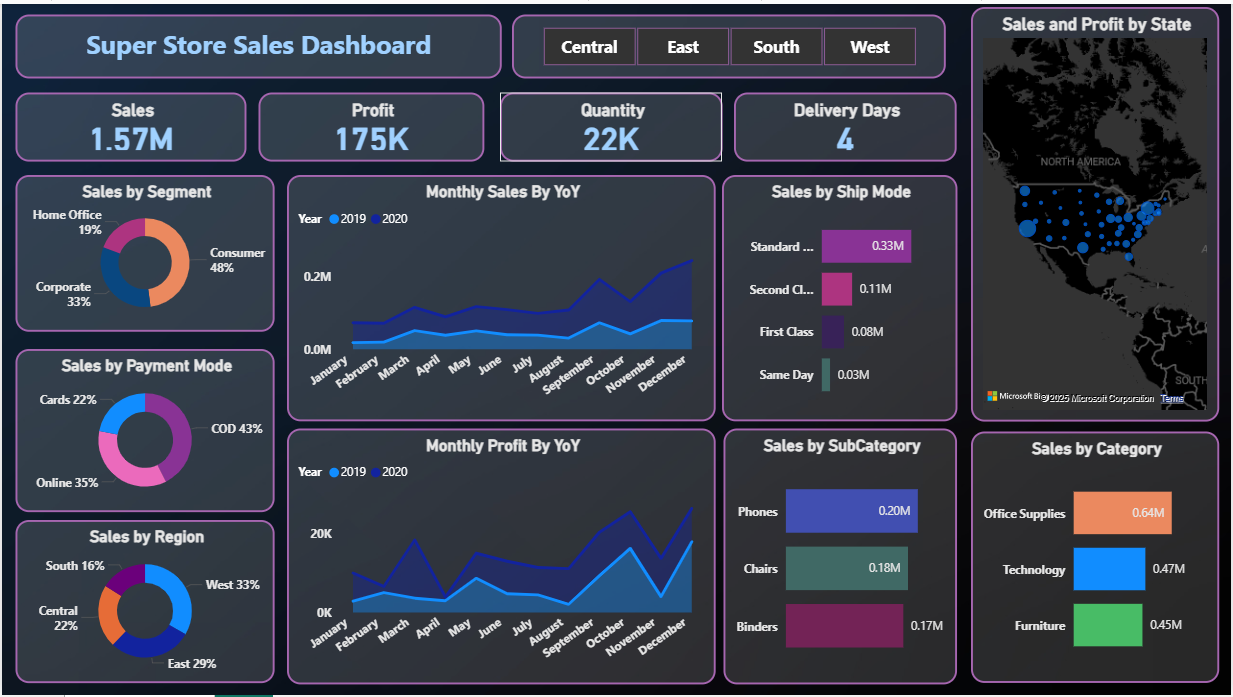

This screenshot's page, from the dashboard's own definition file:
{"tool":"powerbi","page":{"name":"Dashboard","canvas":[1280,720],"ordinal":0},"visuals":[{"type":"clusteredBarChart","title":" Sales by Category","fields":{"Category":["SuperStore_Sales_Dataset.Category"],"Y":["Sum(SuperStore_Sales_Dataset.Sales)"]},"box":[1010,445,258.3,261.7],"z":0},{"type":"clusteredBarChart","title":" Sales by Ship Mode","fields":{"Category":["SuperStore_Sales_Dataset.Ship Mode"],"Y":["Sum(SuperStore_Sales_Dataset.Sales)"]},"box":[750,178.3,245,256.7],"z":1000},{"type":"stackedAreaChart","title":" Monthly Sales By YoY ","fields":{"Category":["SuperStore_Sales_Dataset.Order Date.Variation.Date Hierarchy.Month"],"Y":["Sum(SuperStore_Sales_Dataset.Sales)"],"Series":["SuperStore_Sales_Dataset.Order Date.Variation.Date Hierarchy.Year"]},"box":[296.7,178.3,446.7,256.7],"z":2000},{"type":"stackedAreaChart","title":" Monthly Profit By YoY ","fields":{"Category":["SuperStore_Sales_Dataset.Order Date.Variation.Date Hierarchy.Month"],"Series":["SuperStore_Sales_Dataset.Order Date.Variation.Date Hierarchy.Year"],"Y":["Sum(SuperStore_Sales_Dataset.Profit)"]},"box":[296.7,441.7,446.7,266.7],"z":3000},{"type":"clusteredBarChart","title":" Sales by SubCategory","fields":{"Category":["SuperStore_Sales_Dataset.Sub-Category"],"Y":["Sum(SuperStore_Sales_Dataset.Sales)"]},"box":[751.7,441.7,243.3,266.7],"z":4000},{"type":"donutChart","title":"Sales by Segment","fields":{"Category":["SuperStore_Sales_Dataset.Segment"],"Y":["Sum(SuperStore_Sales_Dataset.Sales)"]},"box":[13.3,178.3,270,163.3],"z":5000},{"type":"donutChart","title":"Sales by Payment Mode","fields":{"Category":["SuperStore_Sales_Dataset.Payment Mode"],"Y":["Sum(SuperStore_Sales_Dataset.Sales)"]},"box":[13.3,360,270,170],"z":6000},{"type":"donutChart","title":"Sales by Region","fields":{"Category":["SuperStore_Sales_Dataset.Region"],"Y":["Sum(SuperStore_Sales_Dataset.Sales)"]},"box":[13.3,538.3,270,170],"z":7000},{"type":"slicer","fields":{"Values":["SuperStore_Sales_Dataset.Region"]},"box":[531.7,11.7,451.7,66.7],"z":8000},{"type":"textbox","box":[13.3,11.7,506.7,66.7],"z":9000},{"type":"card","title":"Sales","fields":{"Values":["Sum(SuperStore_Sales_Dataset.Sales)"]},"box":[14.1,92.2,240.7,71.9],"z":10000},{"type":"card","title":"Profit","fields":{"Values":["Sum(SuperStore_Sales_Dataset.Profit)"]},"box":[266.7,91.7,235,71.7],"z":11000},{"type":"card","title":"Quantity","fields":{"Values":["Sum(SuperStore_Sales_Dataset.Quantity)"]},"box":[518.3,91.7,231.7,71.7],"z":12000},{"type":"card","title":"Delivery Days","fields":{"Values":["Avg(SuperStore_Sales_Dataset.AvgDelivery)"]},"box":[763.3,91.7,231.7,71.7],"z":13000},{"type":"map","title":" Sales and Profit by State","fields":{"Category":["SuperStore_Sales_Dataset.State"],"Size":["Sum(SuperStore_Sales_Dataset.Sales)"]},"box":[1010,3.3,258.3,431.7],"z":14000}]}

Visuals, with their boxes in screenshot pixels (x1, y1, x2, y2), scaled from the page's 1280x720 canvas onto the 1233x697 screenshot:
" Sales by Category" clusteredBarChart: left=973, top=431, right=1222, bottom=684
" Sales by Ship Mode" clusteredBarChart: left=722, top=173, right=958, bottom=421
" Monthly Sales By YoY " stackedAreaChart: left=286, top=173, right=716, bottom=421
" Monthly Profit By YoY " stackedAreaChart: left=286, top=428, right=716, bottom=686
" Sales by SubCategory" clusteredBarChart: left=724, top=428, right=958, bottom=686
"Sales by Segment" donutChart: left=13, top=173, right=273, bottom=331
"Sales by Payment Mode" donutChart: left=13, top=348, right=273, bottom=513
"Sales by Region" donutChart: left=13, top=521, right=273, bottom=686
slicer - SuperStore_Sales_Dataset.Region: left=512, top=11, right=947, bottom=76
textbox: left=13, top=11, right=501, bottom=76
"Sales" card: left=14, top=89, right=245, bottom=159
"Profit" card: left=257, top=89, right=483, bottom=158
"Quantity" card: left=499, top=89, right=722, bottom=158
"Delivery Days" card: left=735, top=89, right=958, bottom=158
" Sales and Profit by State" map: left=973, top=3, right=1222, bottom=421
